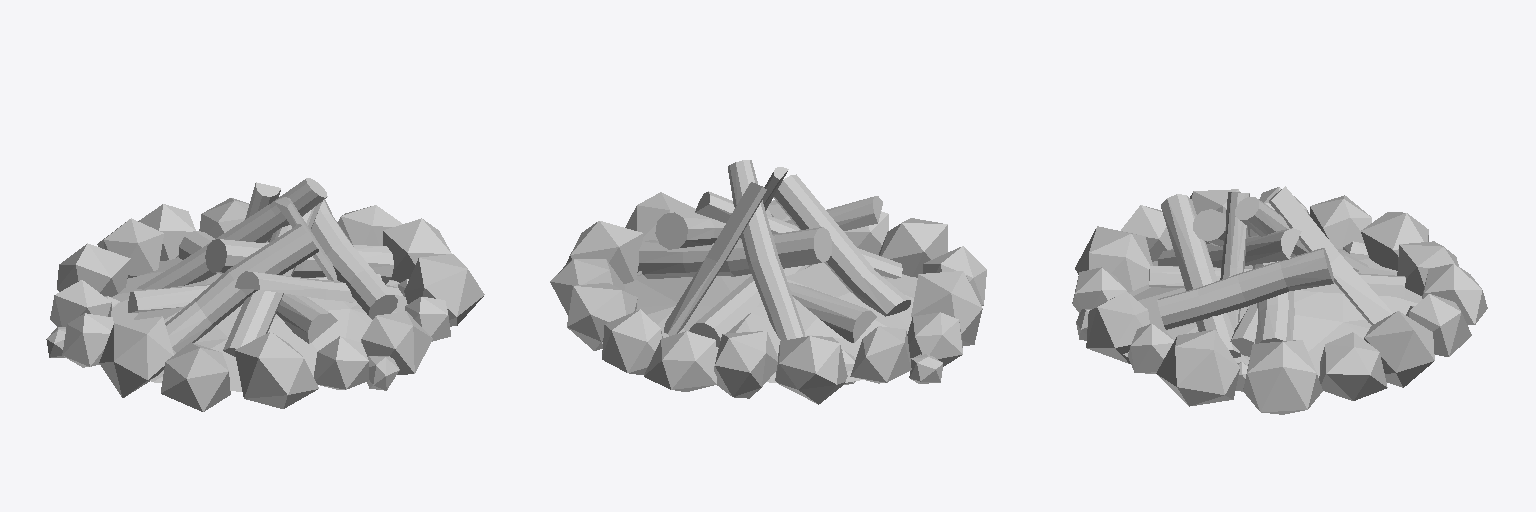
File: fogueira.obj
3 renders of one model, left to right at view 1: azimuth 30°, elevation 25°; view 2: azimuth 150°, elevation 25°; view 3: azimuth 270°, elevation 25°, orthographic.
Parts seen in each view (by area): view 1: Plane; view 2: Plane; view 3: Plane.
Part boxes in pixels (left/top/right/bottom): Plane: left=46, top=178, right=484, bottom=411; Plane: left=550, top=160, right=986, bottom=404; Plane: left=1072, top=186, right=1487, bottom=414.
Size of the model in its own units: 6.26 by 2.38 by 5.79.